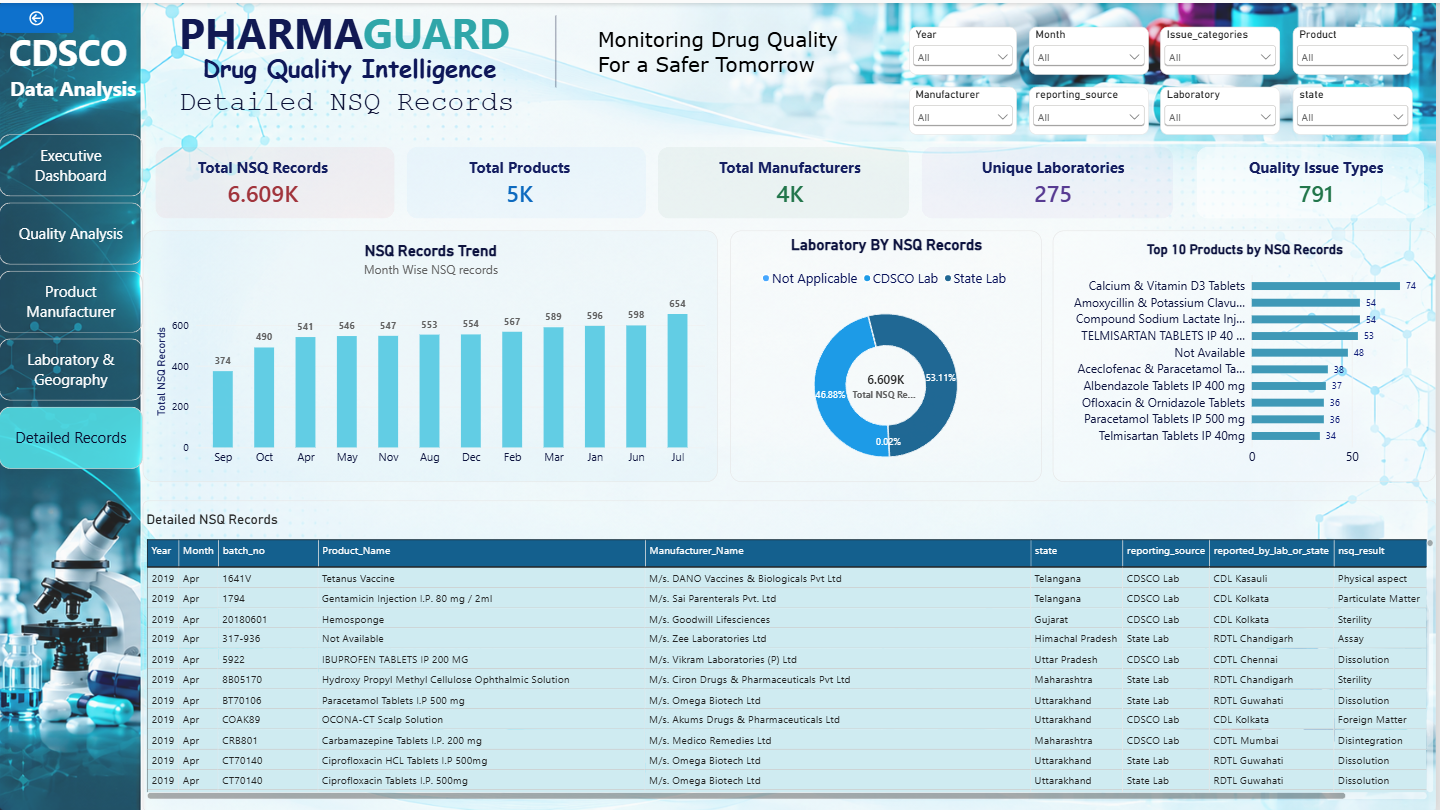

The dashboard page shown, as its layout file describes it:
{"tool":"powerbi","page":{"name":"Detailed Records","canvas":[1920,1080],"ordinal":4},"visuals":[{"type":"shape","box":[1600,192,304,96],"z":0},{"type":"shape","box":[208,192,320,96],"z":1000},{"type":"cardVisual","fields":{"Data":["PharmaGuard.Total NSQ Records"]},"box":[240,192,224,96],"z":2000},{"type":"textbox","box":[240,0,496,80],"z":3000},{"type":"textbox","box":[272,64,496,80],"z":4000},{"type":"textbox","box":[240,112,480,48],"z":5000},{"type":"shape","box":[720,16,48,96],"z":6000},{"type":"textbox","box":[800,32,336,80],"z":7000},{"type":"slicer","fields":{"Values":["PharmaGuard.report_month_name"]},"box":[1376,32,160,64],"z":8000},{"type":"slicer","fields":{"Values":["PharmaGuard.report_year"]},"box":[1216,32,144,64],"z":9000},{"type":"slicer","fields":{"Values":["PharmaGuard.product_short_name"]},"box":[1728,32,160,64],"z":10000},{"type":"slicer","fields":{"Values":["PharmaGuard.quality_categories"]},"box":[1552,32,160,64],"z":11000},{"type":"shape","box":[544,192,320,96],"z":12000},{"type":"shape","box":[880,192,336,96],"z":13000},{"type":"shape","box":[1232,192,336,96],"z":14000},{"type":"cardVisual","fields":{"Data":["PharmaGuard.Unique Products"]},"box":[560,192,272,96],"z":15000},{"type":"cardVisual","fields":{"Data":["PharmaGuard.Unique Manufacturers"]},"box":[928,192,256,96],"z":16000},{"type":"cardVisual","fields":{"Data":["PharmaGuard.Unique Laboratories"]},"box":[1264,192,288,96],"z":17000},{"type":"cardVisual","fields":{"Data":["PharmaGuard.Quality Issue Types"]},"box":[1632,192,256,96],"z":18000},{"type":"textbox","box":[0,32,192,192],"z":19000},{"type":"slicer","fields":{"Values":["PharmaGuard.manufacturer_short_name"]},"box":[1216,112,144,64],"z":20000},{"type":"slicer","fields":{"Values":["PharmaGuard.reporting_source"]},"box":[1376,112,160,64],"z":21000},{"type":"slicer","fields":{"Values":["PharmaGuard.reported_by_lab_or_state"]},"box":[1552,112,160,64],"z":22000},{"type":"slicer","fields":{"Values":["PharmaGuard.state"]},"box":[1728,112,160,64],"z":23000},{"type":"tableEx","title":"Detailed NSQ Records","fields":{"Values":["PharmaGuard.report_year","PharmaGuard.report_month_name","PharmaGuard.batch_no","PharmaGuard.product_short_name","PharmaGuard.manufacturer_short_name","PharmaGuard.state","PharmaGuard.reporting_source","PharmaGuard.reported_by_lab_or_state","PharmaGuard.nsq_result_short_name"]},"box":[192,664,1728,416],"z":24000},{"type":"actionButton","box":[0,0,100,40],"z":25000},{"type":"columnChart","title":"NSQ Records Trend","fields":{"Category":["PharmaGuard.report_month_name"],"Y":["PharmaGuard.Total NSQ Records"]},"box":[192,304,768,336],"z":26000},{"type":"donutChart","title":"Laboratory BY NSQ Records","fields":{"Category":["PharmaGuard.reporting_source"],"Y":["PharmaGuard.Total NSQ Records"]},"box":[976,304,416,336],"z":27000},{"type":"barChart","title":"Top 10 Products by NSQ Records","fields":{"Category":["PharmaGuard.product_short_name"],"Y":["PharmaGuard.Total NSQ Records"]},"box":[1408,304,512,336],"z":28000},{"type":"pageNavigator","box":[0,176,192,448],"z":28001}]}

Visuals, with their boxes in screenshot pixels (x1, y1, x2, y2), scaled from the page's 1920x1080 canvas onto the 1440x810 screenshot:
shape: crop(1200, 144, 1428, 216)
shape: crop(156, 144, 396, 216)
cardVisual - PharmaGuard.Total NSQ Records: crop(180, 144, 348, 216)
textbox: crop(180, 0, 552, 60)
textbox: crop(204, 48, 576, 108)
textbox: crop(180, 84, 540, 120)
shape: crop(540, 12, 576, 84)
textbox: crop(600, 24, 852, 84)
slicer - PharmaGuard.report_month_name: crop(1032, 24, 1152, 72)
slicer - PharmaGuard.report_year: crop(912, 24, 1020, 72)
slicer - PharmaGuard.product_short_name: crop(1296, 24, 1416, 72)
slicer - PharmaGuard.quality_categories: crop(1164, 24, 1284, 72)
shape: crop(408, 144, 648, 216)
shape: crop(660, 144, 912, 216)
shape: crop(924, 144, 1176, 216)
cardVisual - PharmaGuard.Unique Products: crop(420, 144, 624, 216)
cardVisual - PharmaGuard.Unique Manufacturers: crop(696, 144, 888, 216)
cardVisual - PharmaGuard.Unique Laboratories: crop(948, 144, 1164, 216)
cardVisual - PharmaGuard.Quality Issue Types: crop(1224, 144, 1416, 216)
textbox: crop(0, 24, 144, 168)
slicer - PharmaGuard.manufacturer_short_name: crop(912, 84, 1020, 132)
slicer - PharmaGuard.reporting_source: crop(1032, 84, 1152, 132)
slicer - PharmaGuard.reported_by_lab_or_state: crop(1164, 84, 1284, 132)
slicer - PharmaGuard.state: crop(1296, 84, 1416, 132)
"Detailed NSQ Records" tableEx: crop(144, 498, 1439, 809)
actionButton: crop(0, 0, 75, 30)
"NSQ Records Trend" columnChart: crop(144, 228, 720, 480)
"Laboratory BY NSQ Records" donutChart: crop(732, 228, 1044, 480)
"Top 10 Products by NSQ Records" barChart: crop(1056, 228, 1439, 480)
pageNavigator: crop(0, 132, 144, 468)
